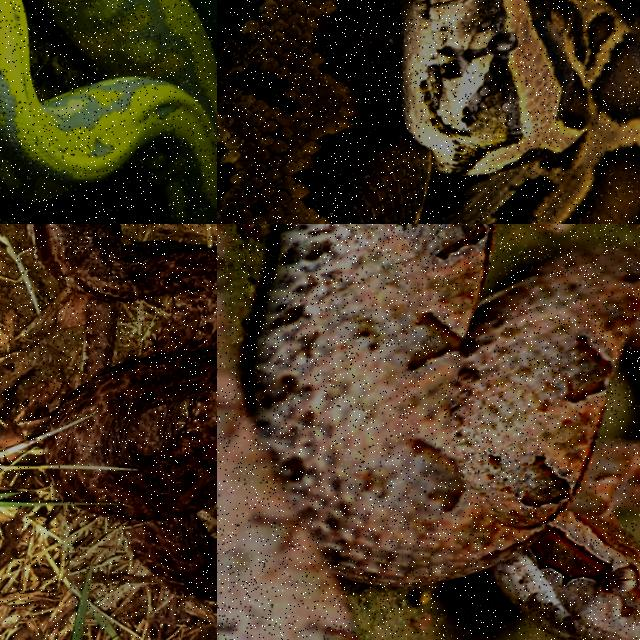Calloselasma rhodostoma: (217, 224, 639, 639)
Malayopython reticulatus: (0, 0, 216, 223)
Ovophis monticola: (26, 224, 216, 601)
Python bivittatus: (217, 0, 639, 223)
